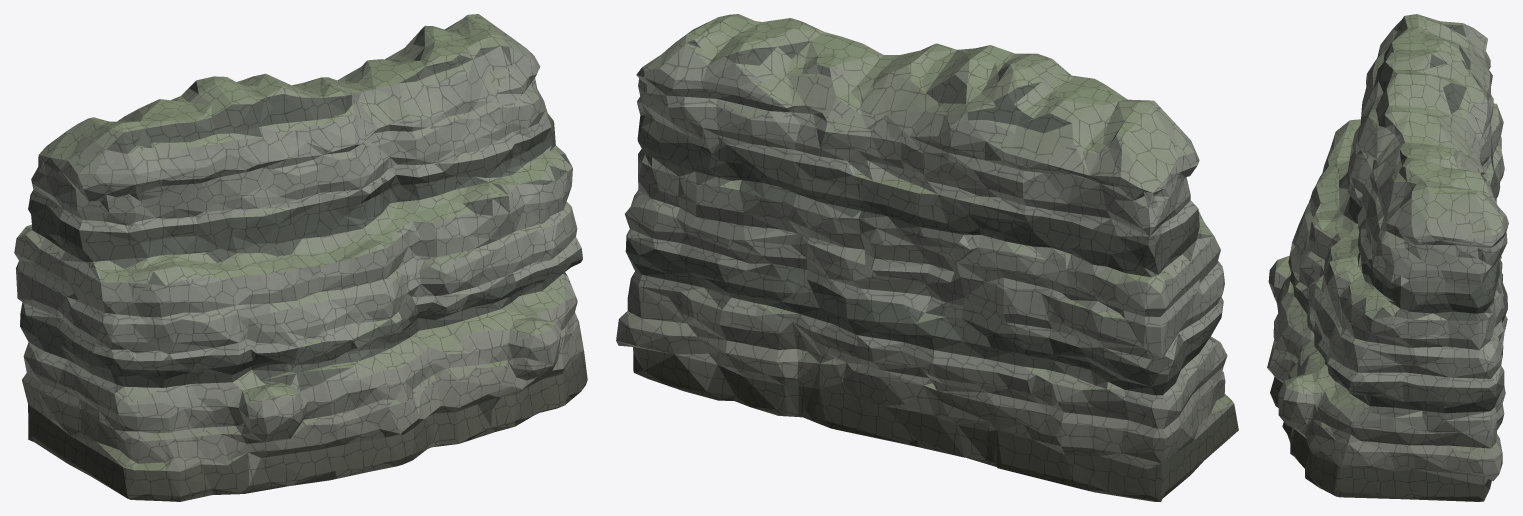
File: cliff_wall_a.glb
3 renders of one model, left to right at view 1: azimuth 30°, elevation 25°; view 2: azimuth 150°, elevation 25°; view 3: azimuth 270°, elevation 25°, orthographic. The views are drawn at different scales.
Parts seen in each view (by area): view 1: cliff_wall_a.001; view 2: cliff_wall_a.001; view 3: cliff_wall_a.001.
Part boxes in pixels (<box>): cliff_wall_a.001: <box>14,14,587,501</box>; cliff_wall_a.001: <box>616,14,1238,501</box>; cliff_wall_a.001: <box>1267,14,1508,501</box>.
Size of what is drawn, in the model's own units: 17.86 by 11.64 by 8.18.
2 materials, 2 textured.
